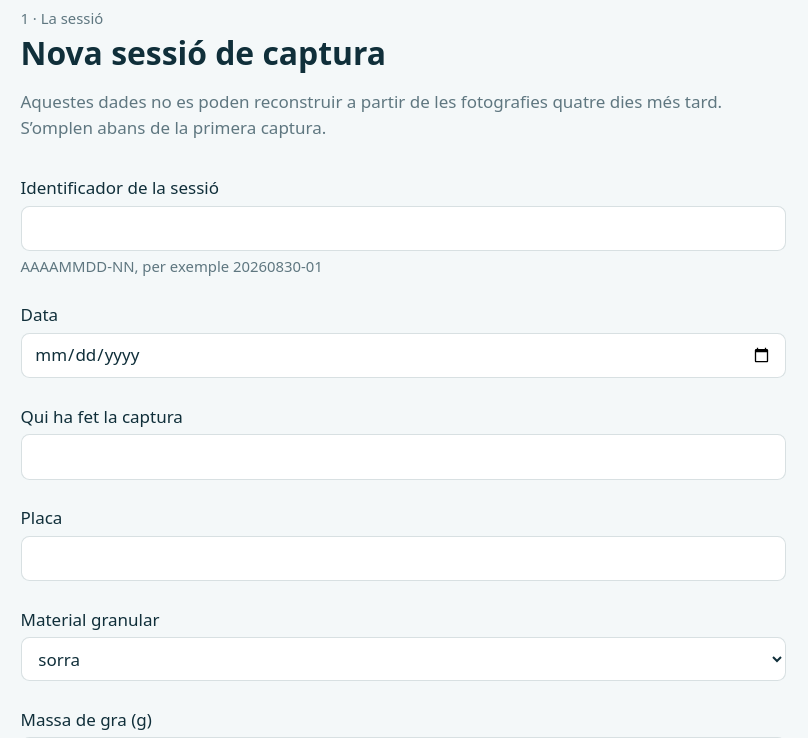
it: NewSession › does not judge the session id itself
Type "la sessió del dijous" into the field labelled "Identificador de la sessió". click: (403, 229)
box: [20,206,786,251]
Type "2026-08-30" into the date field labelled "Data". click: (403, 356)
box: [20,333,786,378]
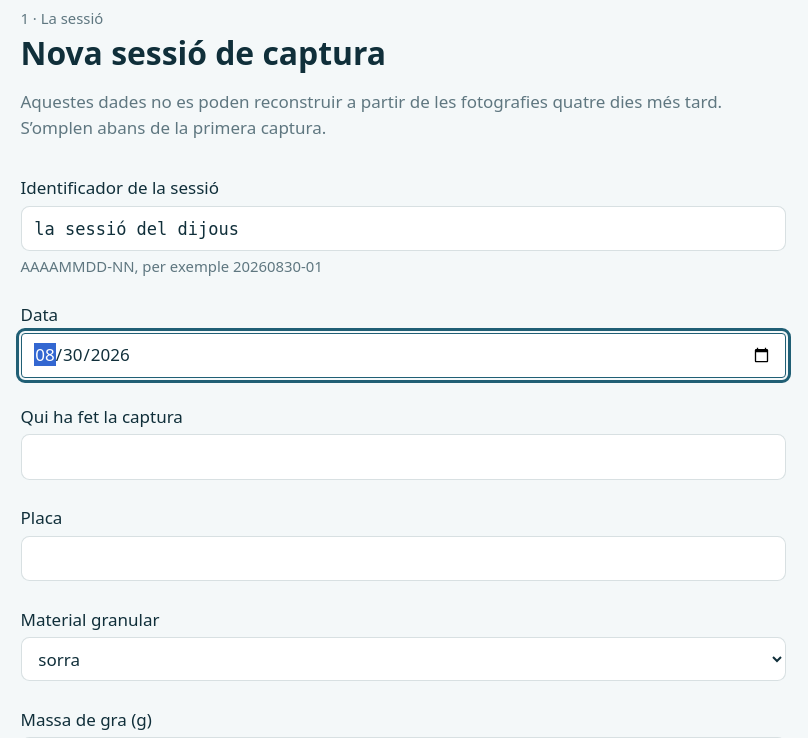
Type "PS" into the field labelled "Qui ha fet la captura". click: (403, 457)
box: [20,434,786,480]
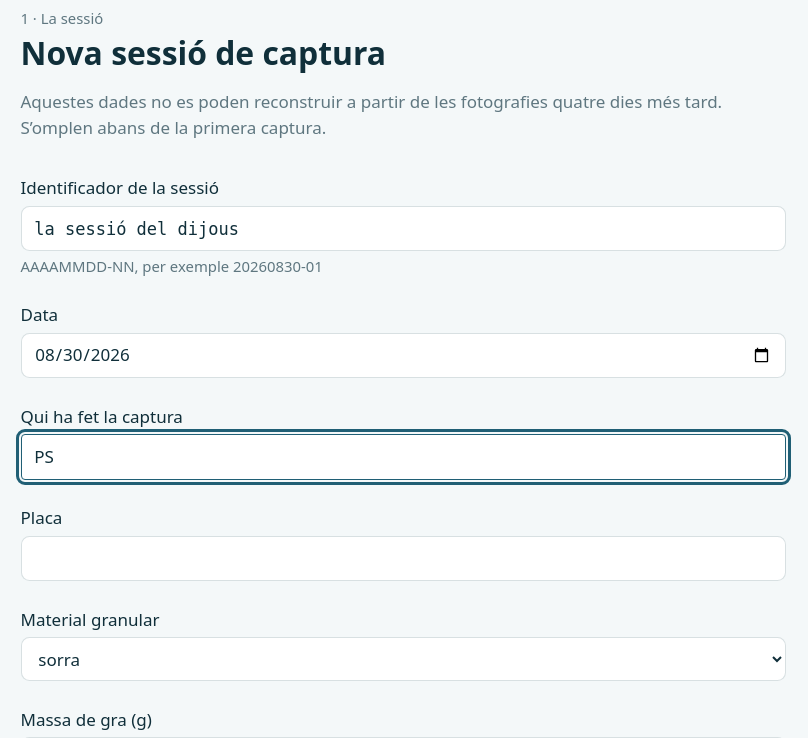
Type "alu-200" into the field labelled "Placa". click: (403, 558)
box: [20,536,786,581]
(page scrolled)
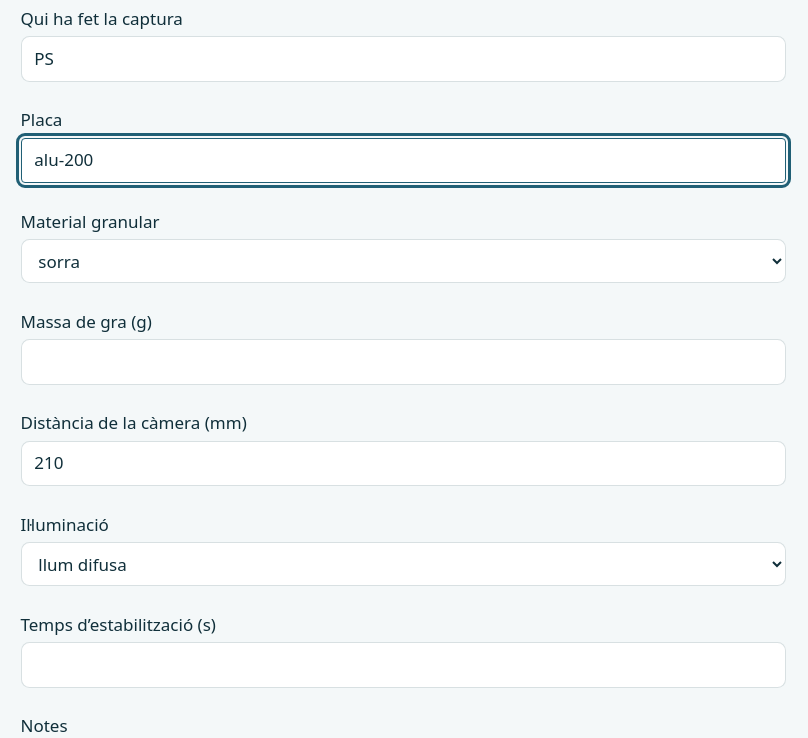
Type "6" into the number field labelled "Massa de gra (g)". click: (403, 362)
box: [20,339,786,385]
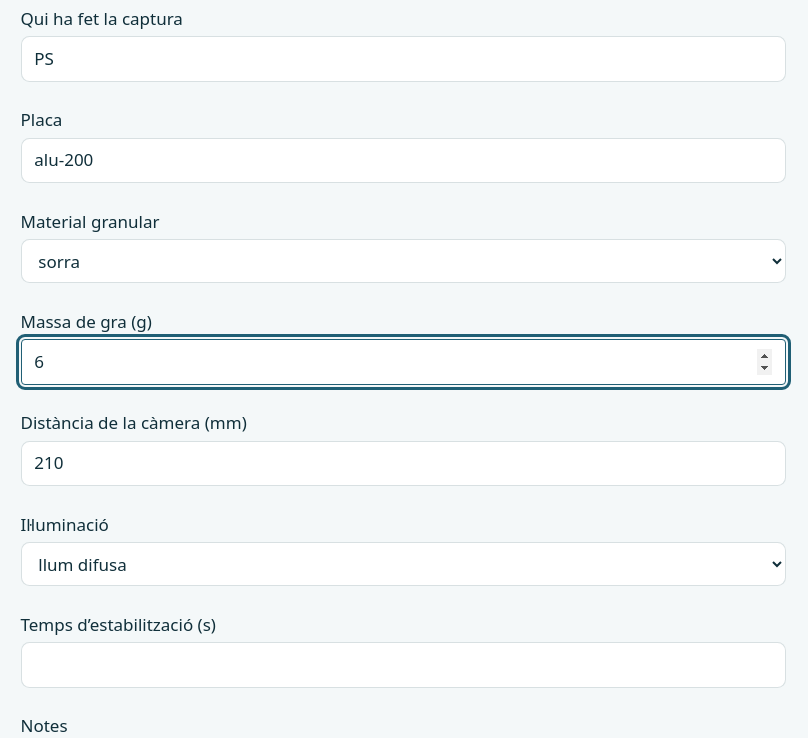
Type "3" into the number field labelled "Temps d’estabilització (s)". click: (403, 665)
box: [20,642,786,688]
(page scrolled)
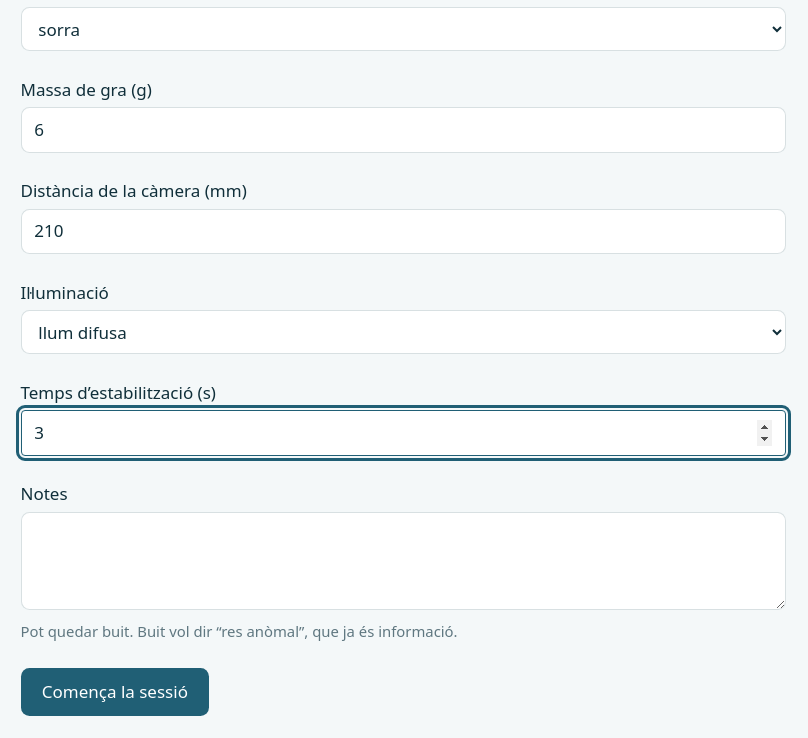
Click the button "Comença la sessió". click: (115, 692)
box: [20,668,209,716]
(page scrolled)
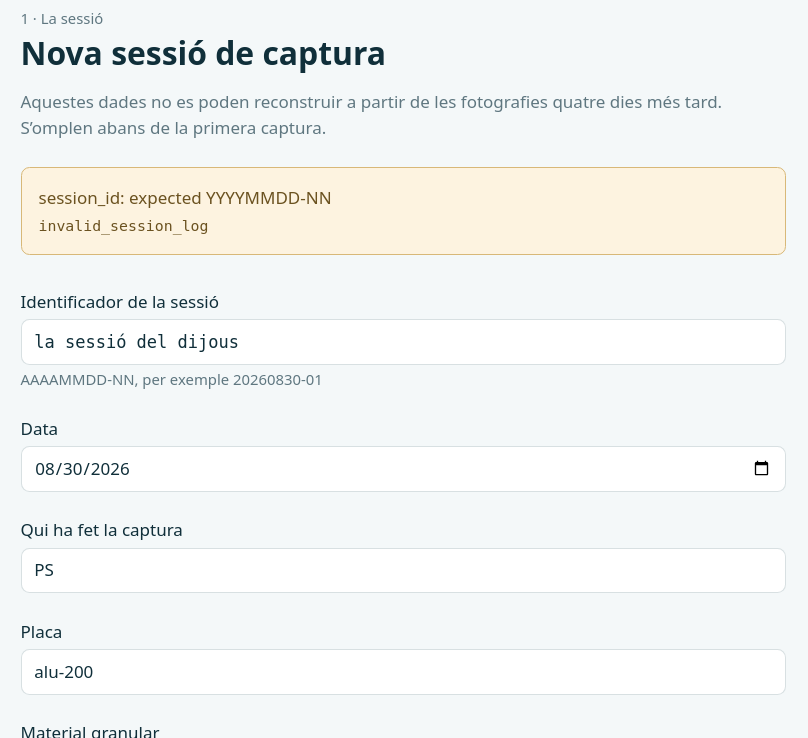
Now the text "session_id: expected YYYYMMDD-NN" is shown, box [38,186,332,209]
